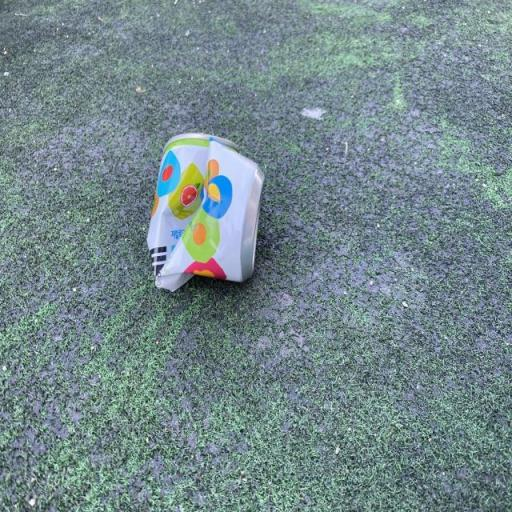metal: (136, 112, 270, 318)
